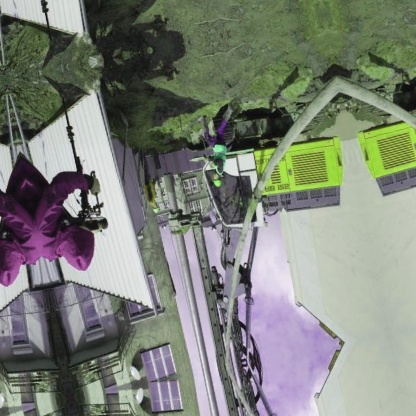vest: (207, 139, 233, 177), (142, 182, 160, 208)
yellow: (209, 177, 223, 189), (150, 205, 161, 217)
